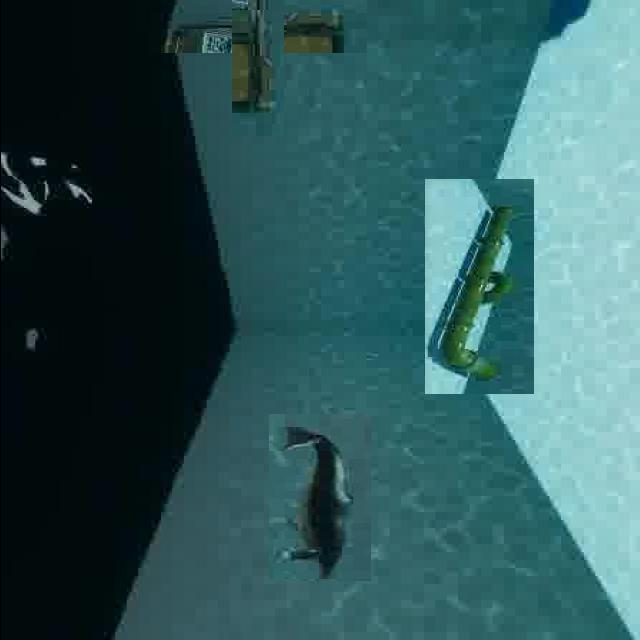Control Panel: (188, 0, 324, 94)
Pipe: (423, 178, 533, 394)
Whale: (268, 414, 370, 581)
